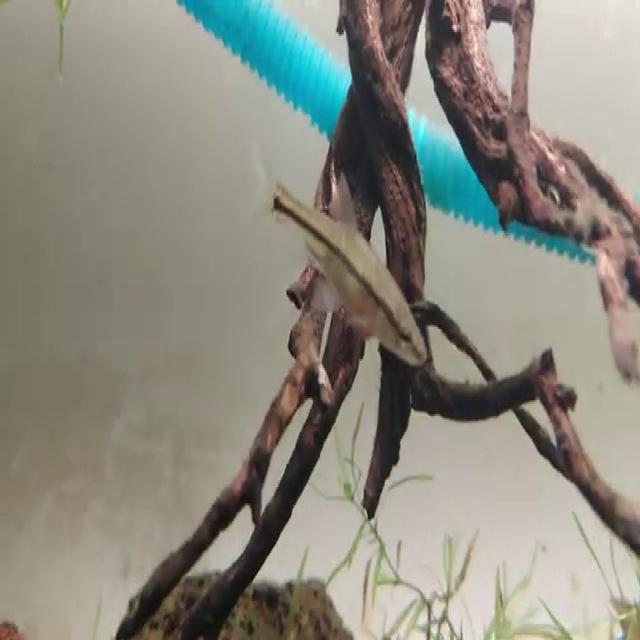Cakil Baligi: (259, 150, 425, 370)
